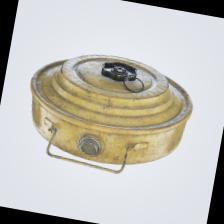TM-46: (5, 37, 214, 202)
